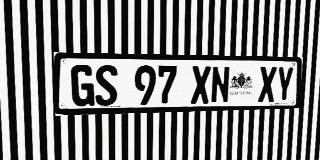7: (156, 66, 177, 105)
9: (135, 65, 156, 105)
G: (71, 65, 95, 106)
N: (211, 66, 230, 103)
S: (95, 65, 118, 106)
X: (191, 66, 211, 104), (258, 66, 277, 102)
Y: (276, 67, 294, 102)
